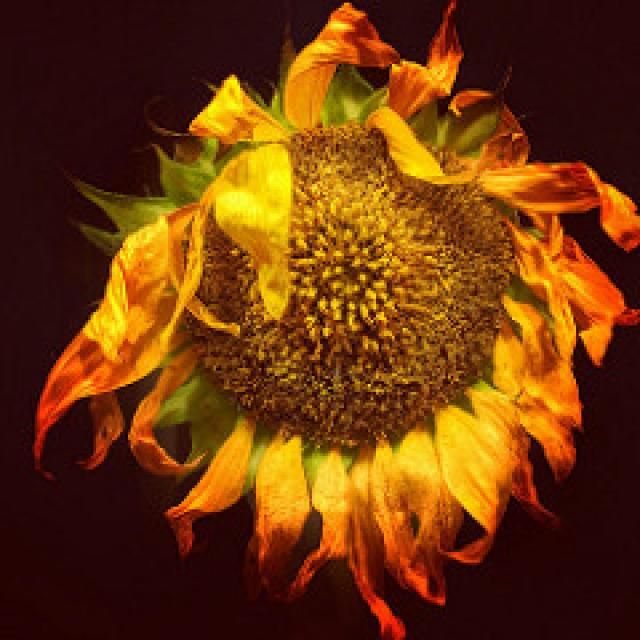sunflower: (40, 6, 640, 630)
